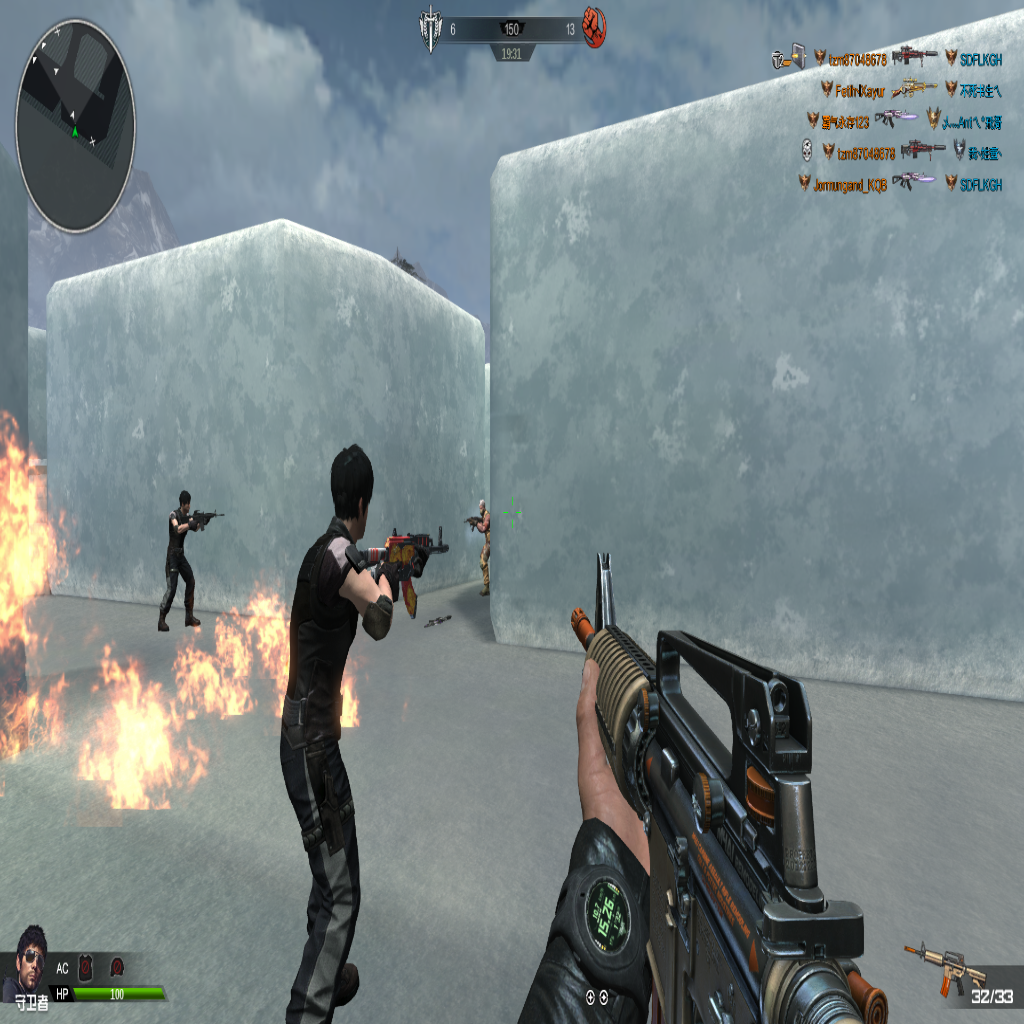ct: (158, 495, 215, 632)
tt: (466, 503, 491, 592)
